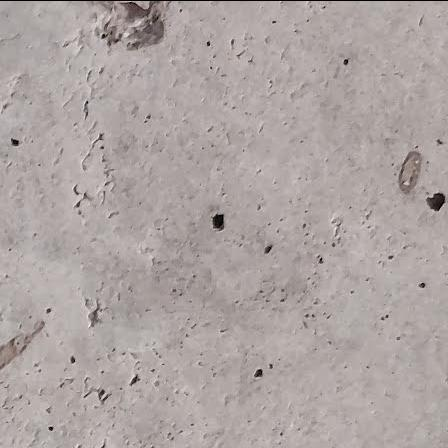spalling: (91, 0, 174, 51), (82, 297, 104, 328), (211, 210, 226, 232)
